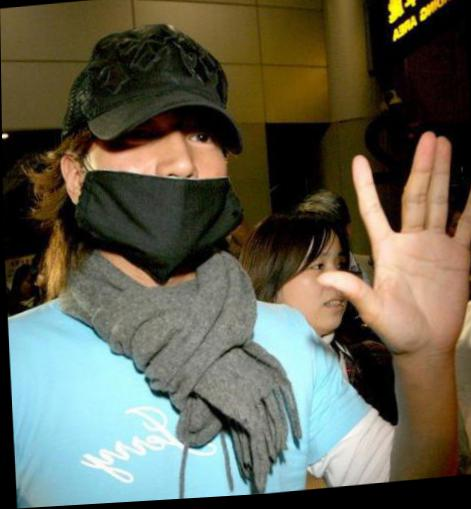NONE: (283, 245, 351, 341)
WRONG: (86, 94, 234, 275)
